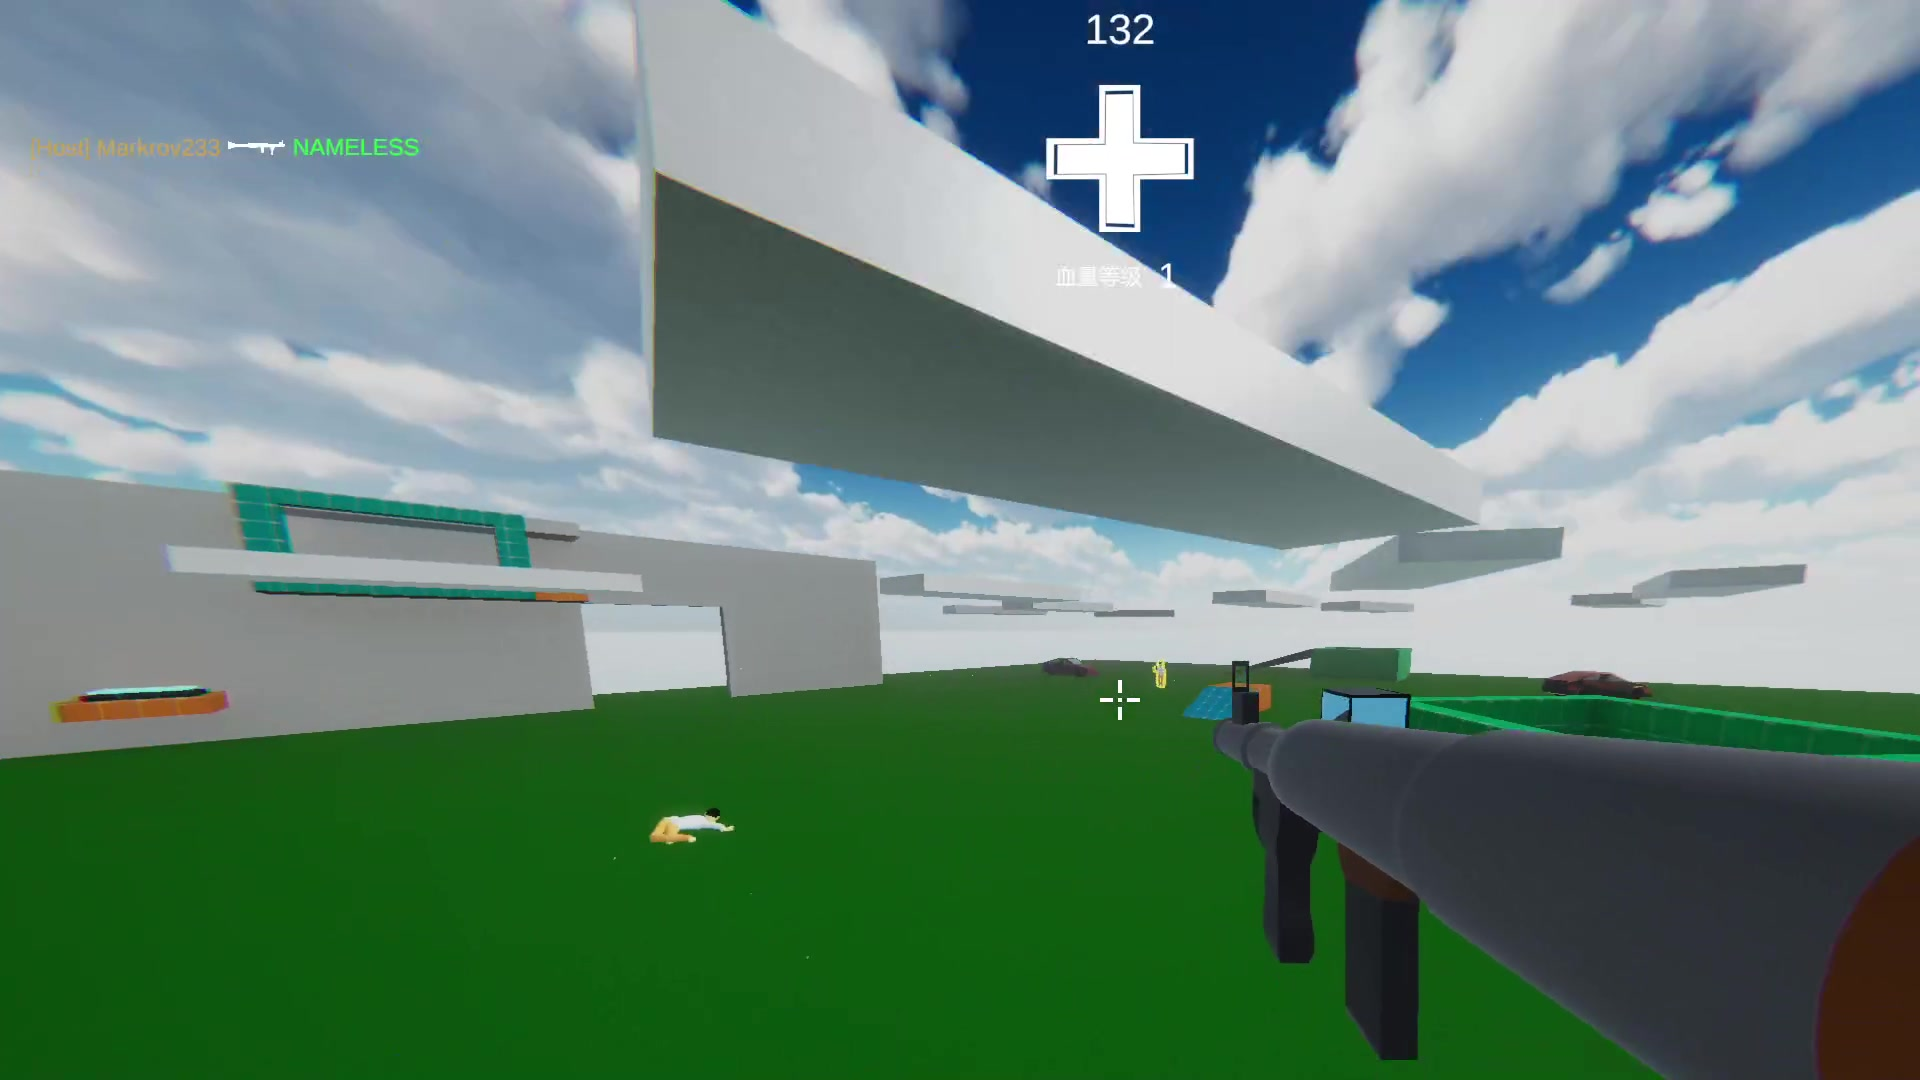died: (636, 790, 741, 854)
human: (1149, 655, 1168, 690)
